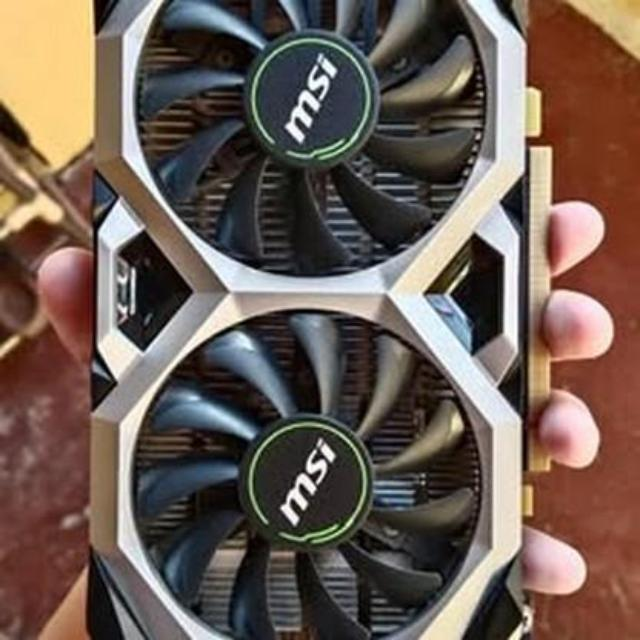GPU: (87, 0, 558, 640)
